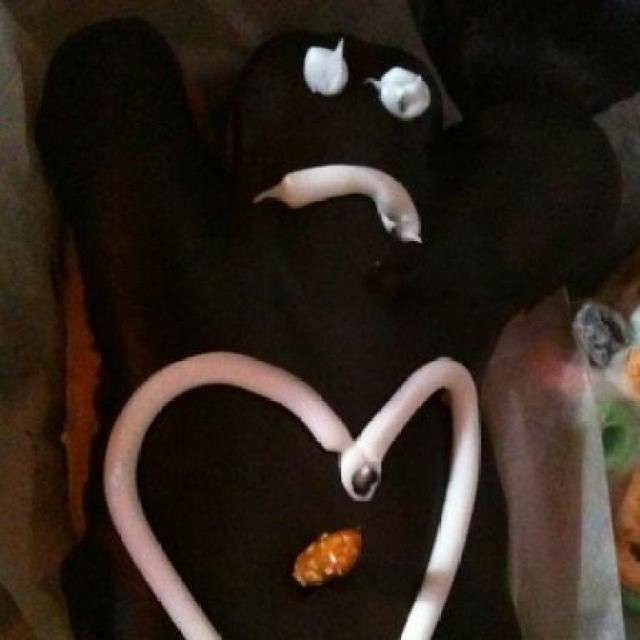Donuts: (82, 61, 600, 640)
